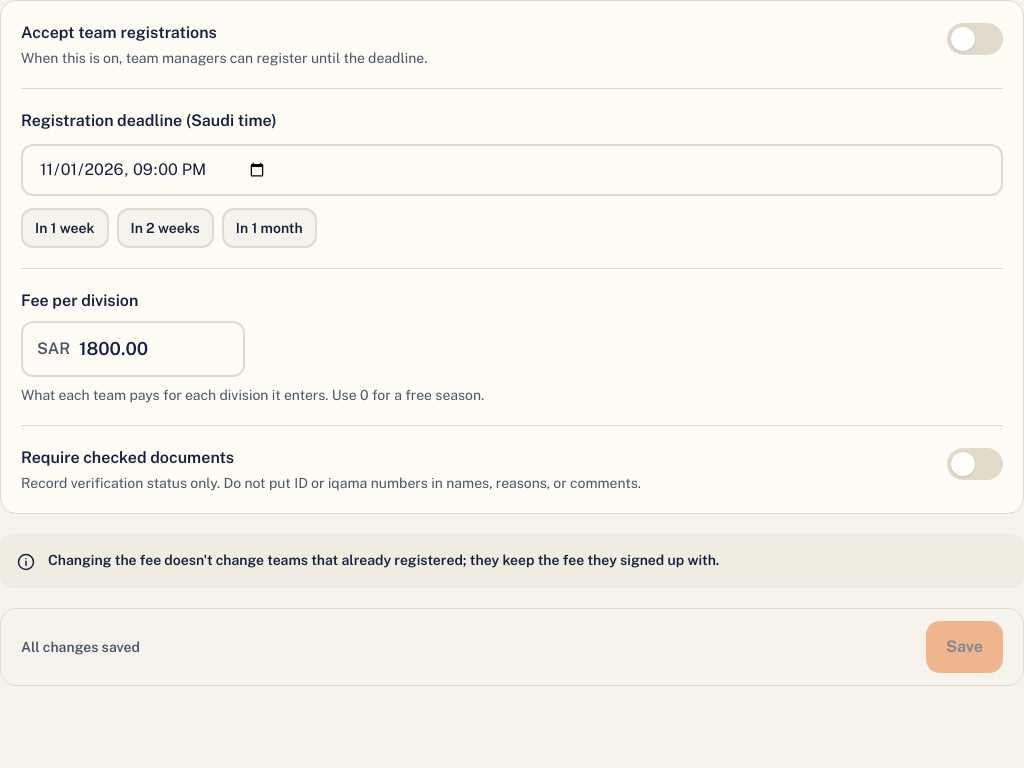
Test: registration settings › explains a fee it cannot read
Step 1. Replace the text in the field labelled "Fee per division" with "abc" → (133,349), box [21,321,245,377]
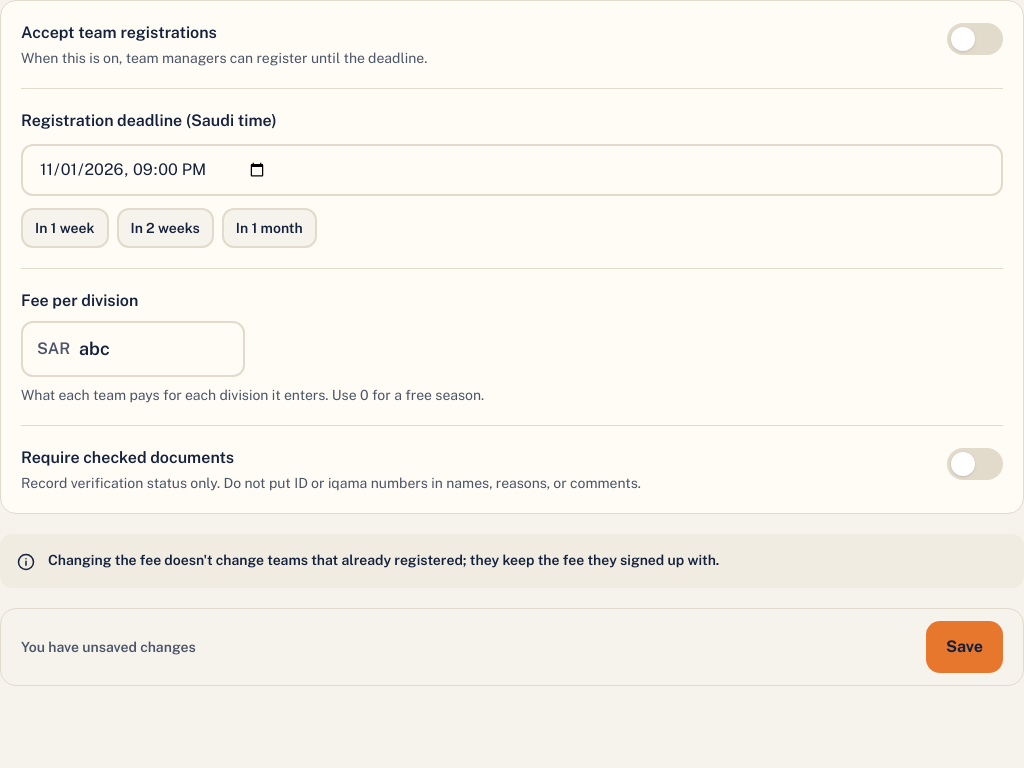
Step 2. Click the button "Save" → (964,647), box [926,621,1003,673]
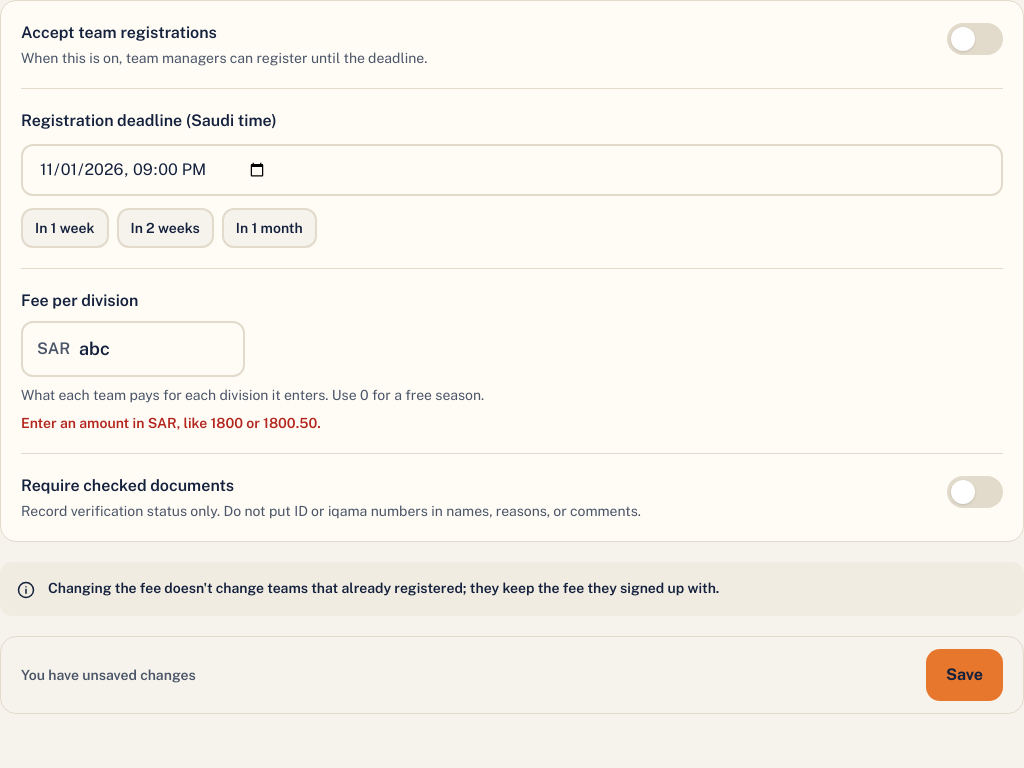
Expected: the text "Enter an amount in SAR, like 1800 or 1800.50." is shown, [21,415,321,431]
